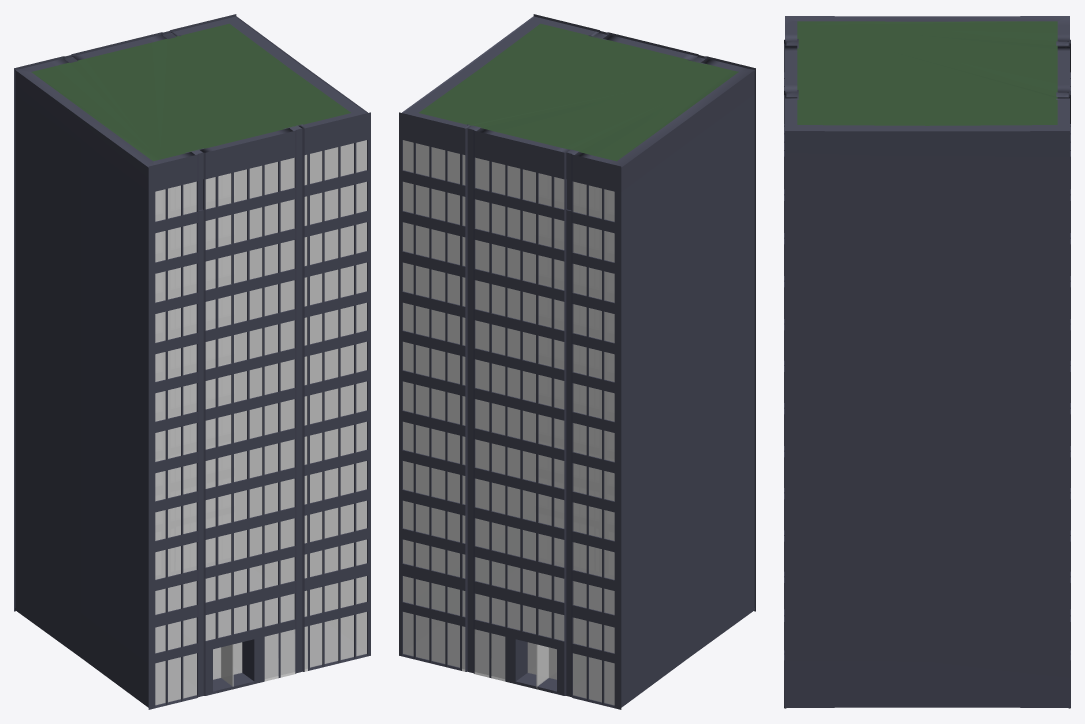
File: HandMade_Building3.fbx
3 renders of one model, left to right at view 1: azimuth 30°, elevation 25°; view 2: azimuth 150°, elevation 25°; view 3: azimuth 270°, elevation 25°, orthographic. The views are drawn at different scales.
Visible parts, largest first — view 1: Cube.009; view 2: Cube.009; view 3: Cube.009.
Boxes of the visible parts, box(x1,y1,x2,y2) form: Cube.009: box(14, 14, 370, 709); Cube.009: box(399, 14, 755, 709); Cube.009: box(784, 16, 1070, 708).
Size of the model in its own units: 1177 by 2625 by 1124.
